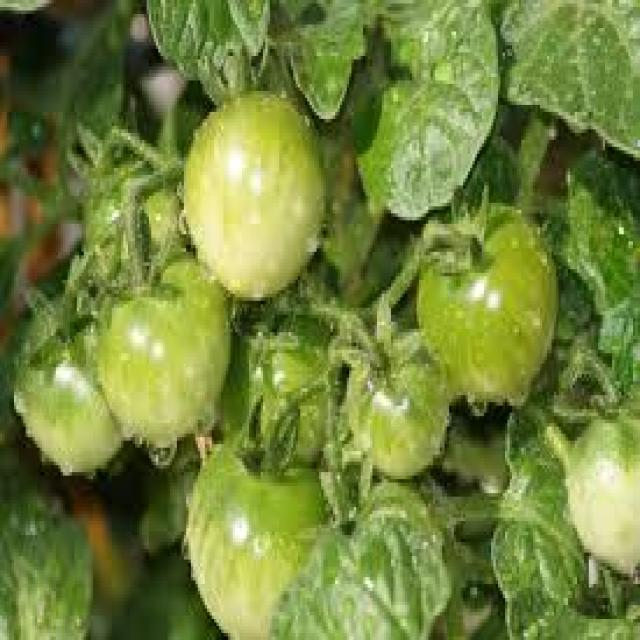organic waste: (0, 0, 638, 637), (177, 84, 326, 297), (414, 196, 552, 399), (186, 444, 328, 637), (93, 252, 233, 430), (9, 286, 126, 476), (337, 314, 447, 476), (244, 304, 344, 476), (547, 406, 638, 574), (86, 168, 189, 283)
